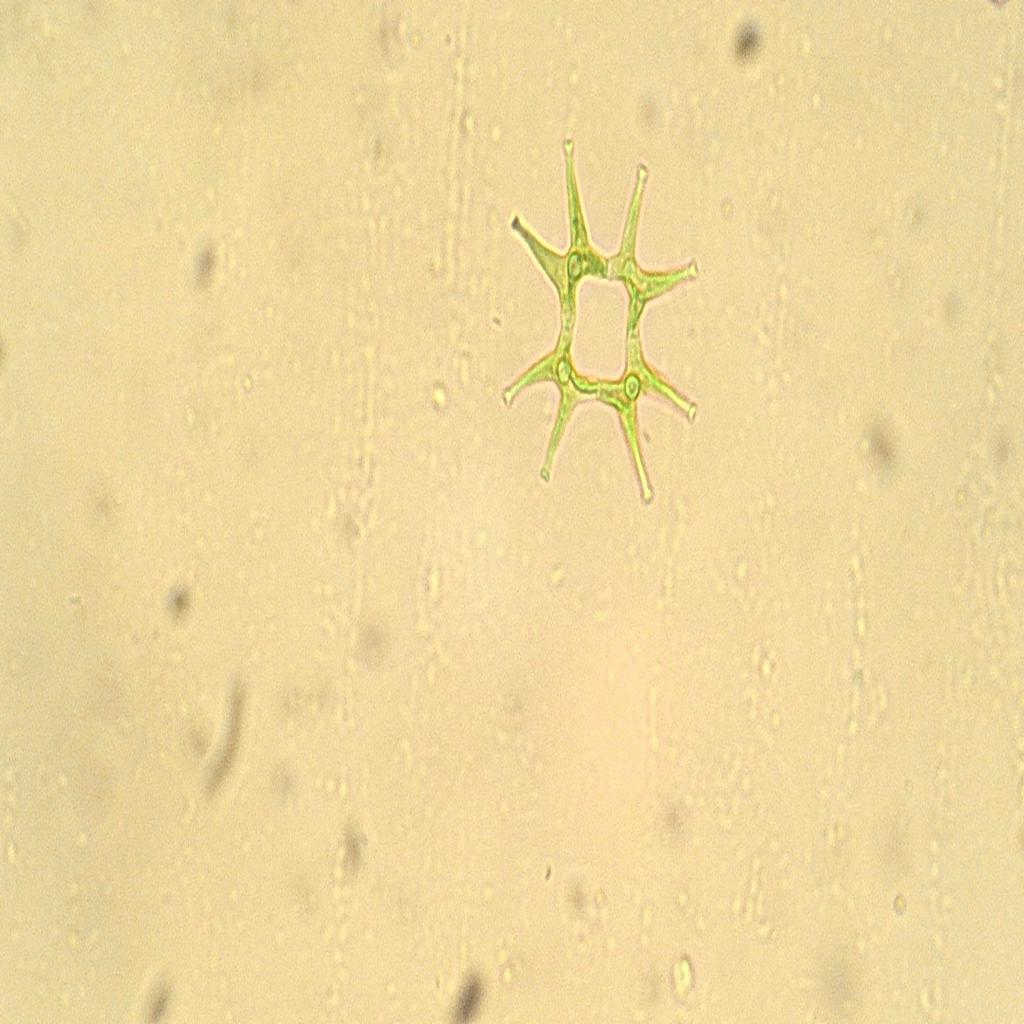Pediastrum_CO: (482, 128, 722, 514)
